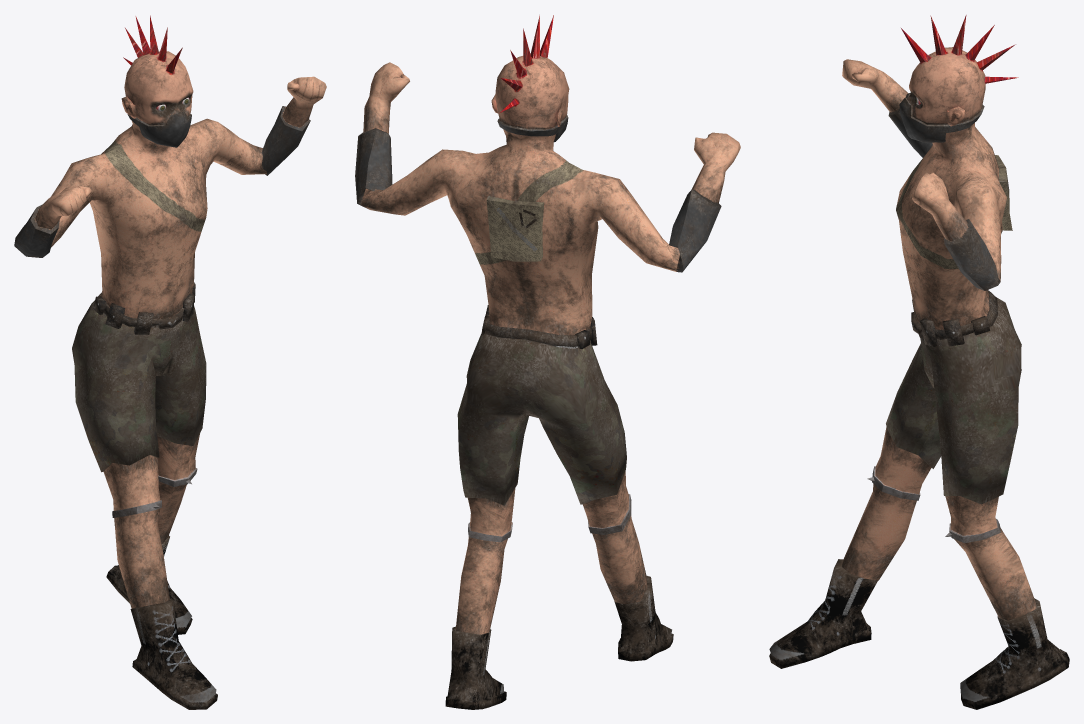
Rendered from Anim_ganar_1_npc2.0039.obj.
3 views of the same model, side by side, from view 1: azimuth 30°, elevation 25°; view 2: azimuth 150°, elevation 25°; view 3: azimuth 270°, elevation 25° (orthographic). The views are drawn at different scales.
Visible parts, largest first — view 1: polySurface1; view 2: polySurface1; view 3: polySurface1.
Boxes of the visible parts, <box> form: polySurface1: <box>14,15,326,709</box>; polySurface1: <box>355,15,740,709</box>; polySurface1: <box>769,15,1069,709</box>.
Size of the model in its own units: 5.21 by 10.29 by 4.16.
Materials: 2 (2 with a texture image).
